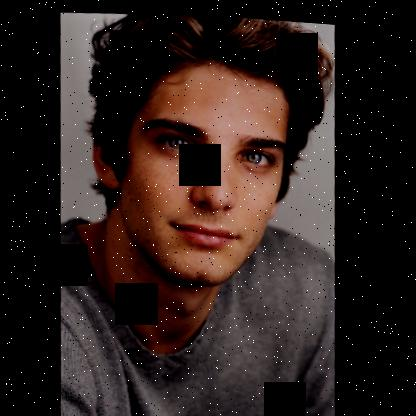Male: (83, 51, 303, 291)
